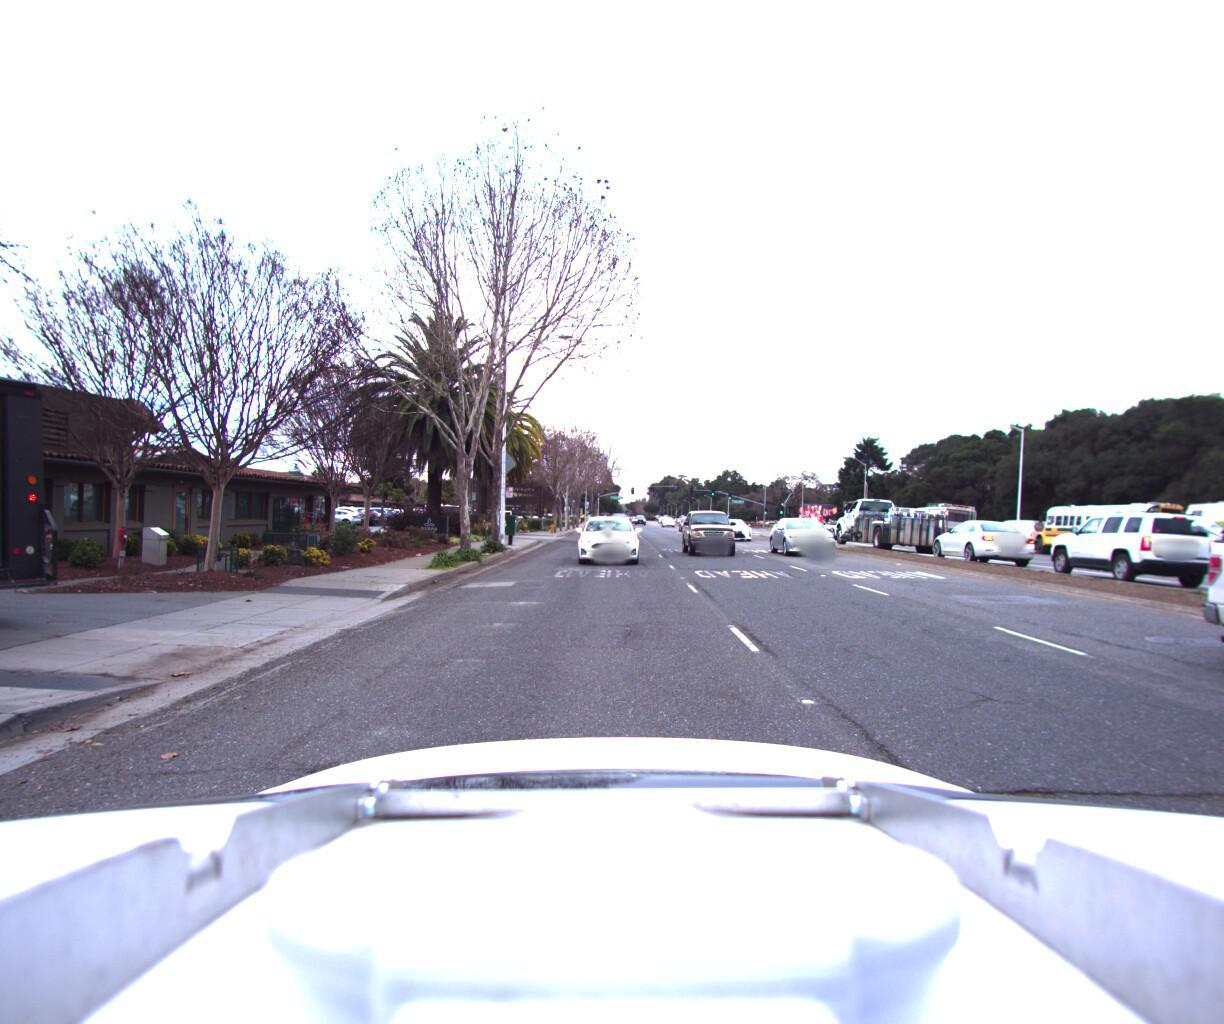bus: (1024, 494, 1206, 568)
car: (1040, 502, 1224, 583), (924, 513, 1042, 565), (575, 510, 642, 566), (770, 514, 850, 558), (683, 505, 745, 558), (713, 513, 757, 539), (764, 510, 799, 532)
other_vehicle: (1166, 491, 1224, 577)
truck: (0, 351, 62, 646), (829, 491, 956, 552), (900, 497, 979, 546), (977, 514, 1064, 553)
